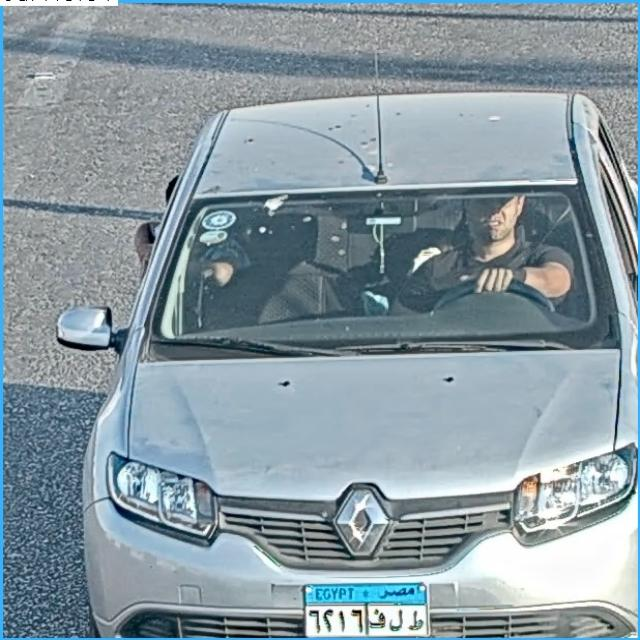windshield: (154, 188, 611, 350)
